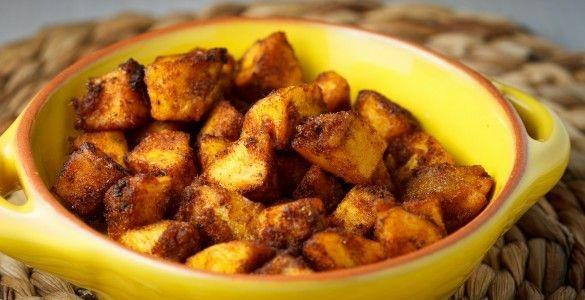AlooMasala: (49, 30, 497, 277)
